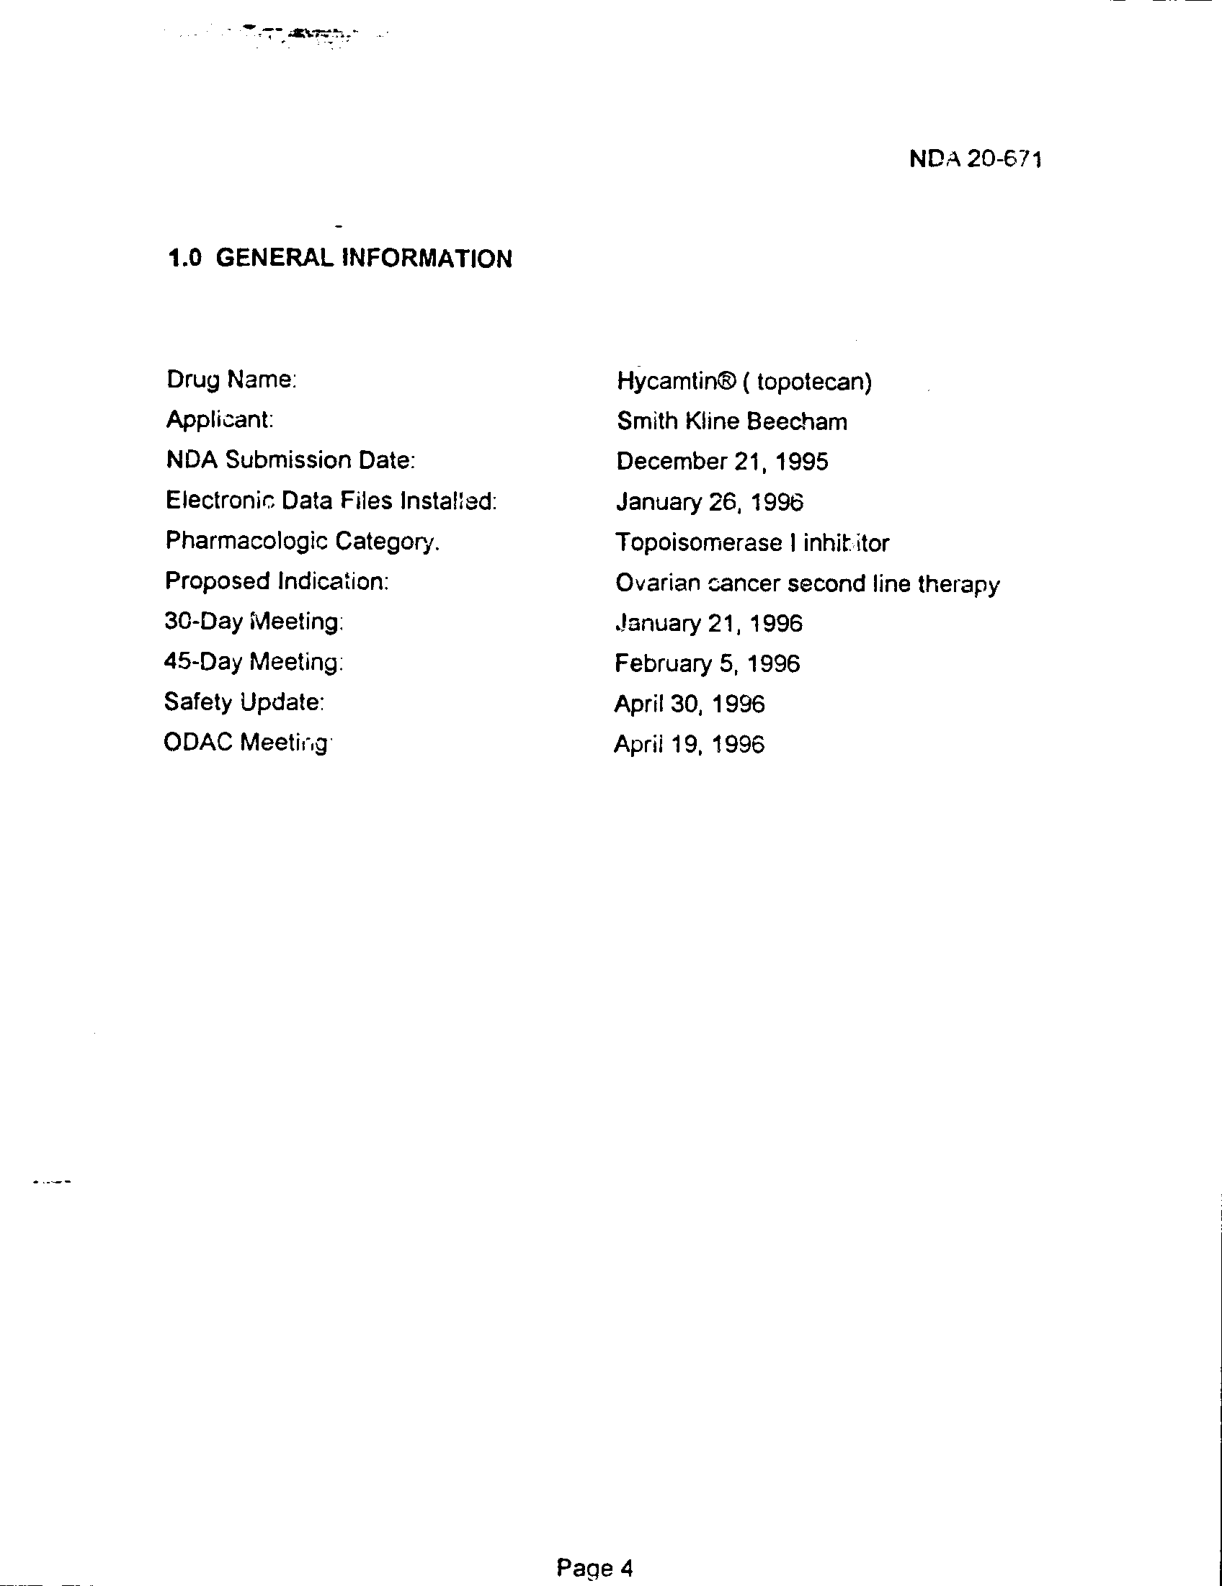nolines: (159, 363, 1004, 756)
